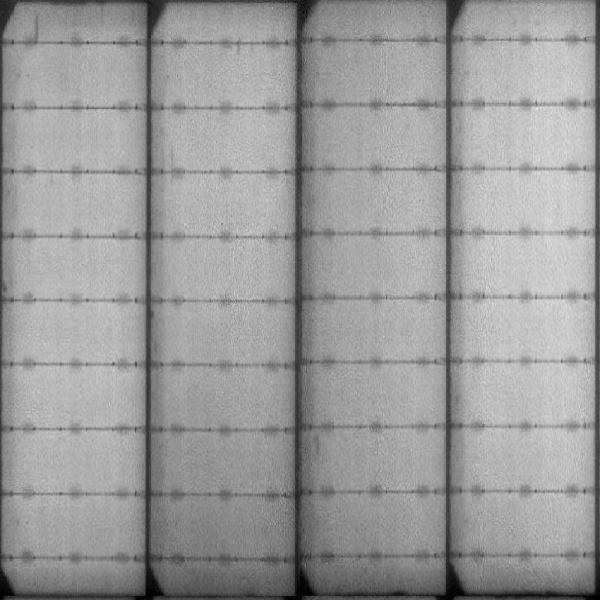scratch: (31, 11, 42, 43)
